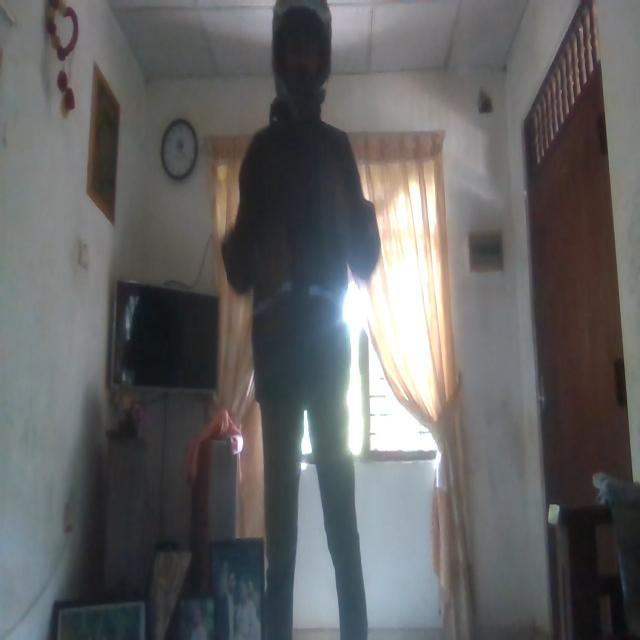Helmet_Wearer: (263, 0, 340, 120)
Jacket_Wearer: (225, 118, 383, 390)
Person: (224, 0, 385, 628)
